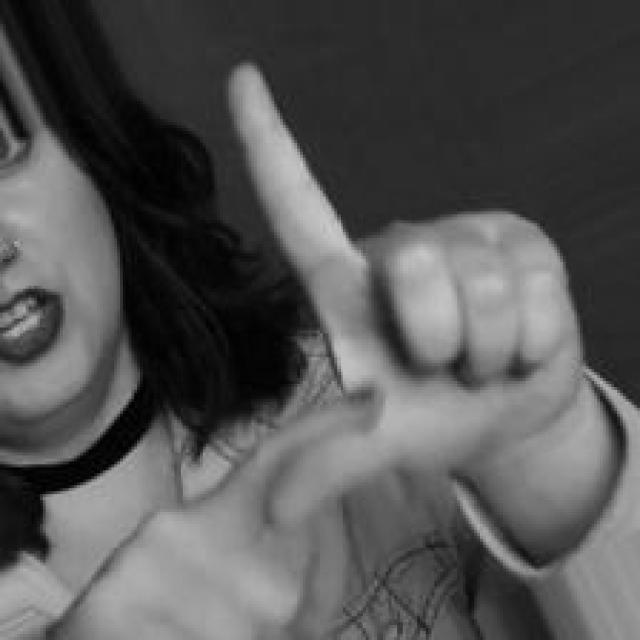J: (149, 52, 588, 640)
